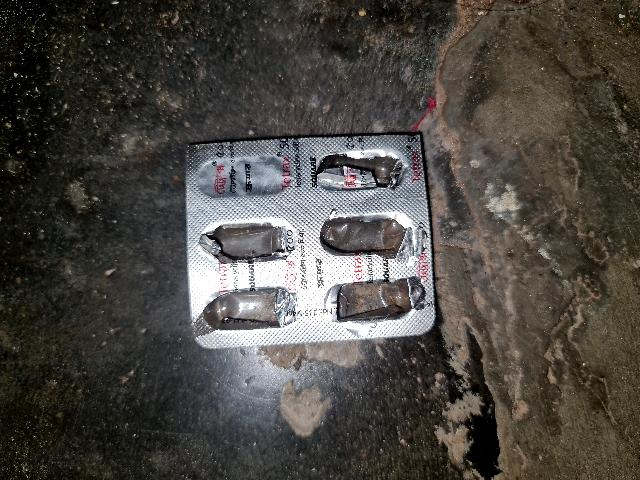medicine: (179, 130, 445, 350)
